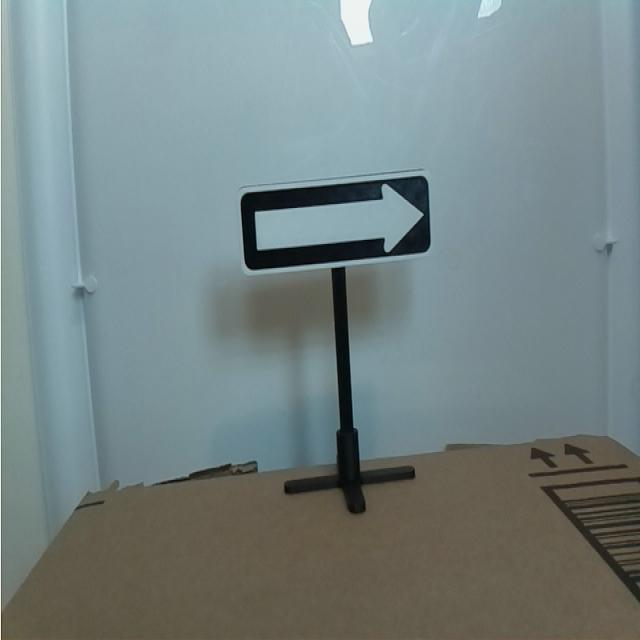sign_oneway_right: (227, 164, 446, 292)
